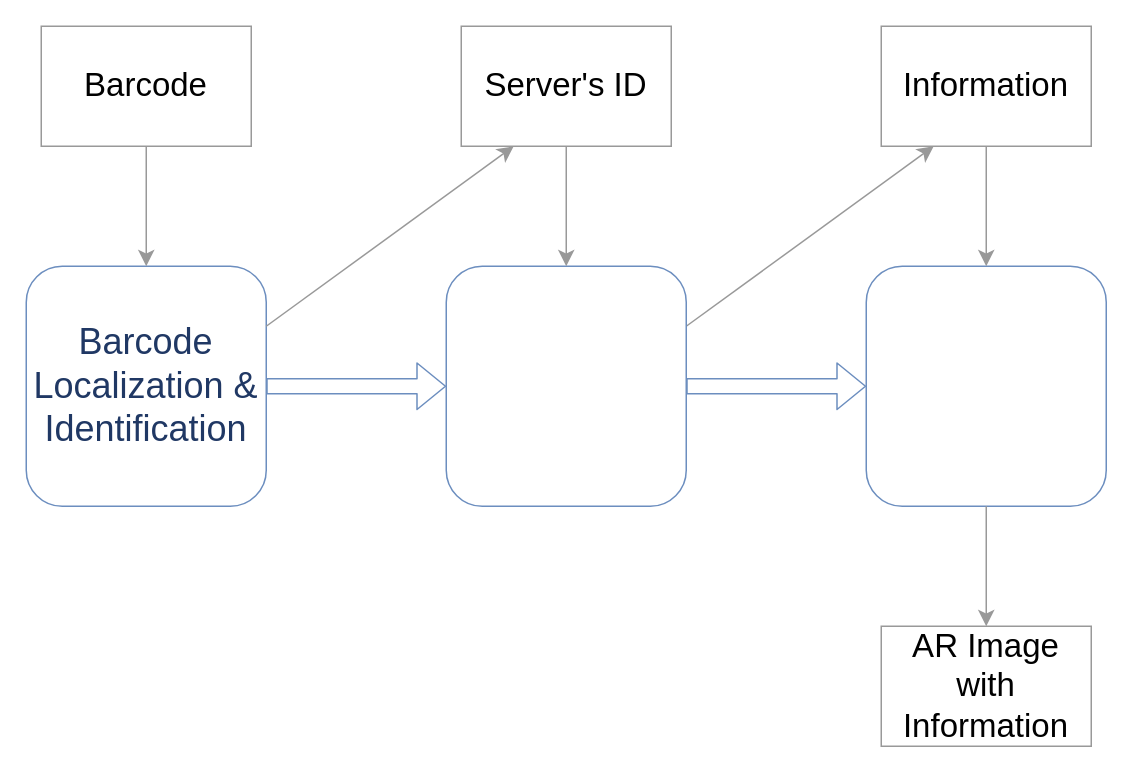
Some shapes in this 1133 by 773 pixel diagram are drawn without their labels. The centre of each missing label's shape, as x and y in pixels:
Data Retrieval: the point at 565,385
User Interface: the point at 985,385
